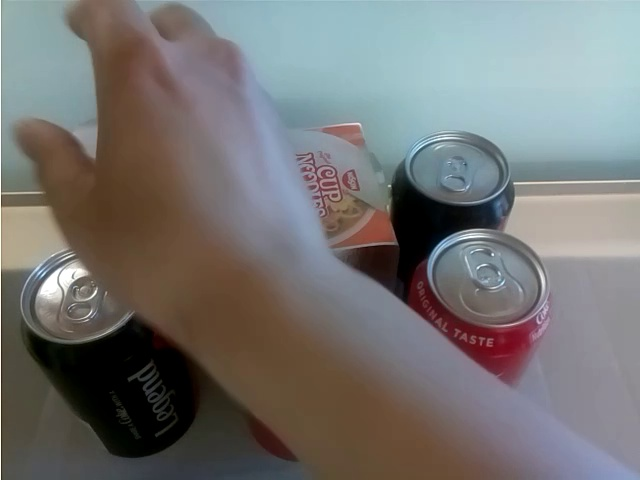cocacola: (18, 247, 217, 454), (407, 227, 553, 384), (392, 128, 516, 237)
hand: (12, 1, 340, 360)
noodles: (283, 121, 397, 266)
